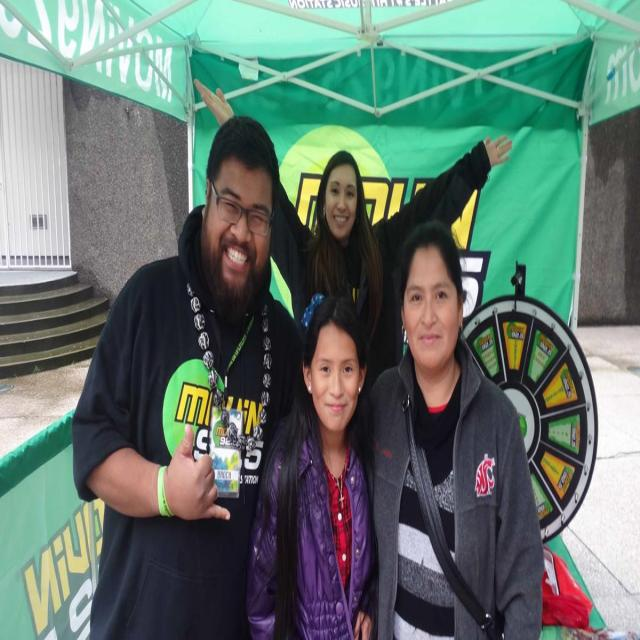body: (71, 116, 304, 639), (193, 74, 517, 384), (352, 217, 547, 639), (241, 289, 381, 639)
